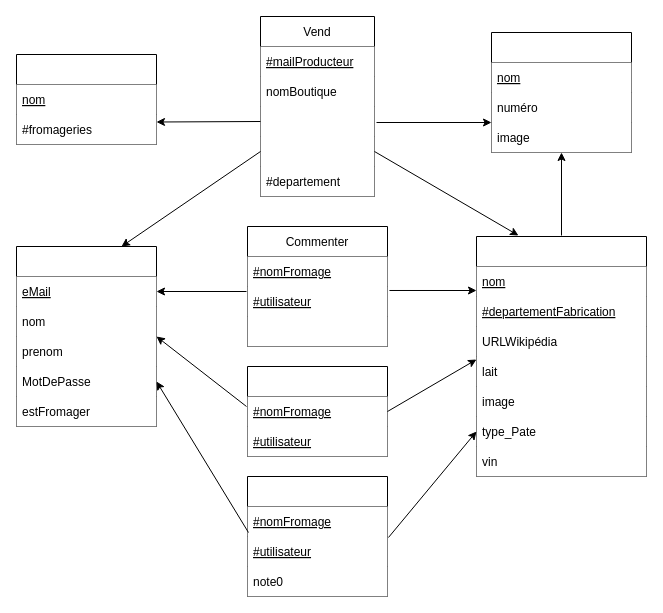
The diagram is 663 pixels wide and 613 high, and some of its shapes have lost their labels. Here are the shapes that lost their labels. From the top down, the box of each, then its label:
(16, 54, 156, 144): ITINERAIRE
(490, 32, 632, 152): DEPARTEMENT
(260, 106, 374, 136): #fromage
(260, 136, 374, 166): ville
(16, 246, 156, 426): UTILISATEUR
(247, 316, 387, 346): avis
(476, 236, 646, 476): FROMAGE
(246, 366, 388, 456): Favori
(246, 476, 388, 596): Noter
